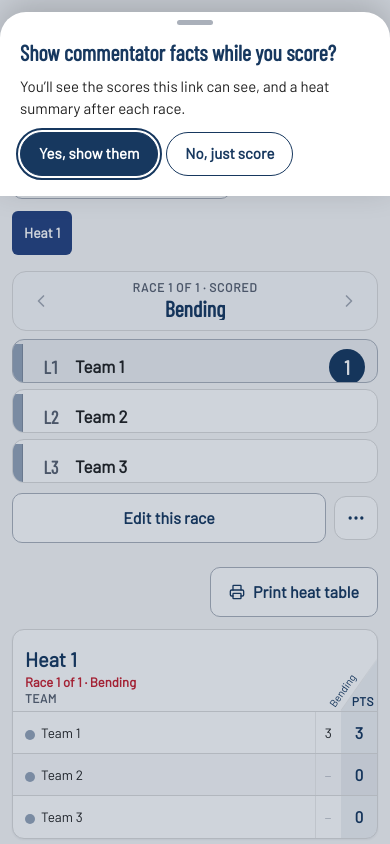
Test: labels scoped scores honestly and keeps organiser and stream tools off a scoring-only link
Click the button "Yes, show them" at point(89, 154), box [20,132,158,176]
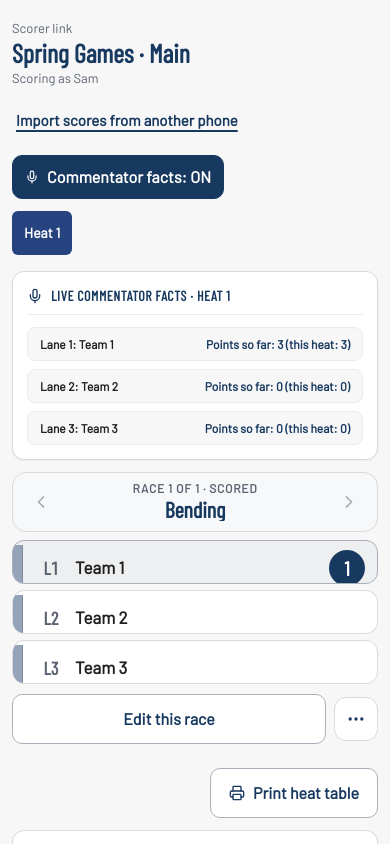
expect the element "Live commentator facts" does not show "Rank": met, box [12,270,378,460]
expect the element "Live commentator facts" shows "Points so far: 3": met, box [12,270,378,460]
